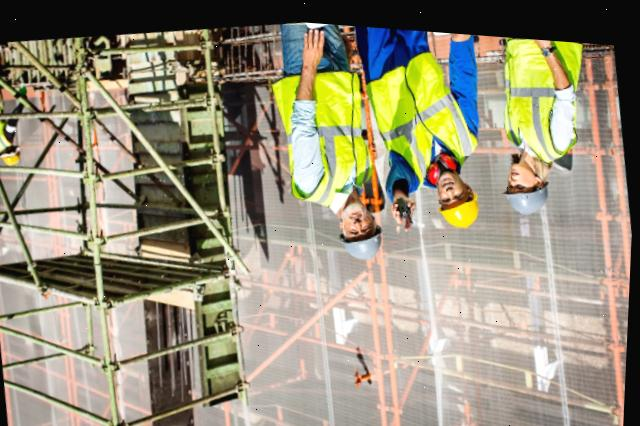helmet: (437, 181, 484, 228), (504, 172, 555, 215), (341, 220, 388, 257), (2, 152, 26, 167)
vest: (280, 60, 376, 204), (493, 29, 595, 155), (376, 43, 463, 187), (0, 99, 14, 150)
